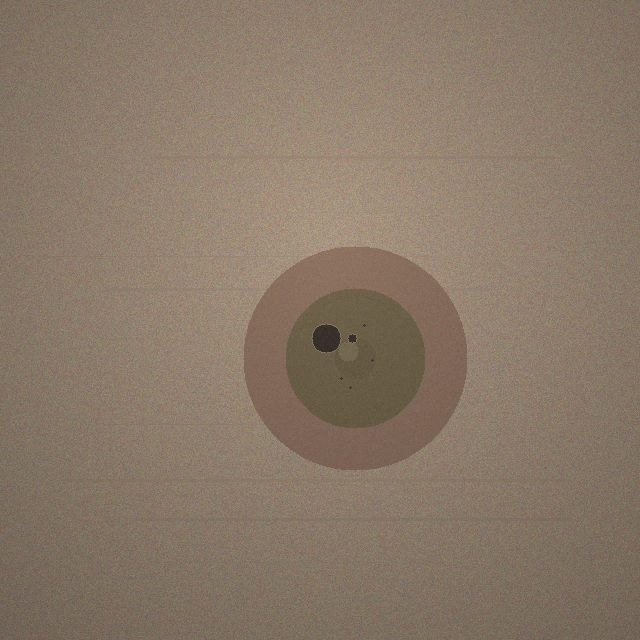shrinkage: (243, 246, 467, 470)
